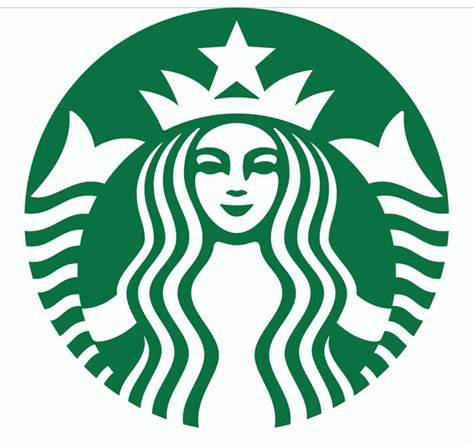starbucks Originale: (16, 3, 459, 429)
